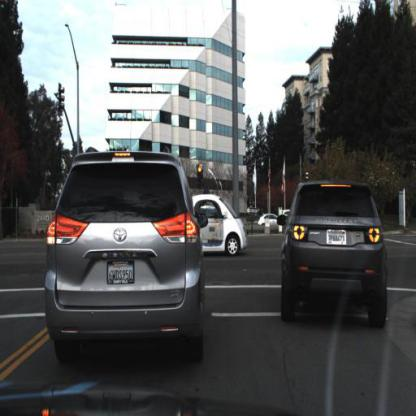car: (46, 148, 211, 368), (274, 173, 388, 328), (184, 193, 250, 259), (260, 215, 290, 233)
trafficLight: (195, 161, 206, 190)
trafficLight-Red: (194, 149, 209, 198)
